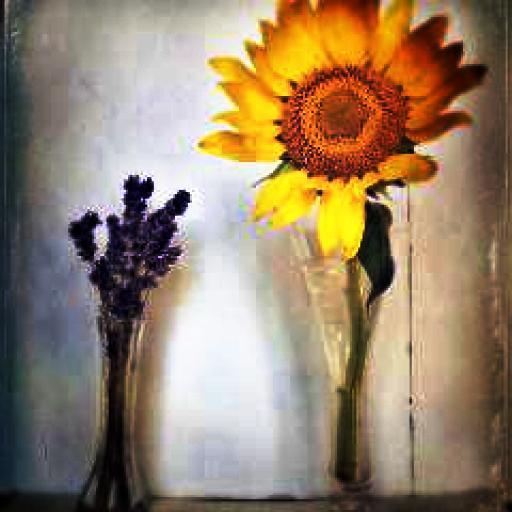sunflower: (206, 0, 487, 251)
